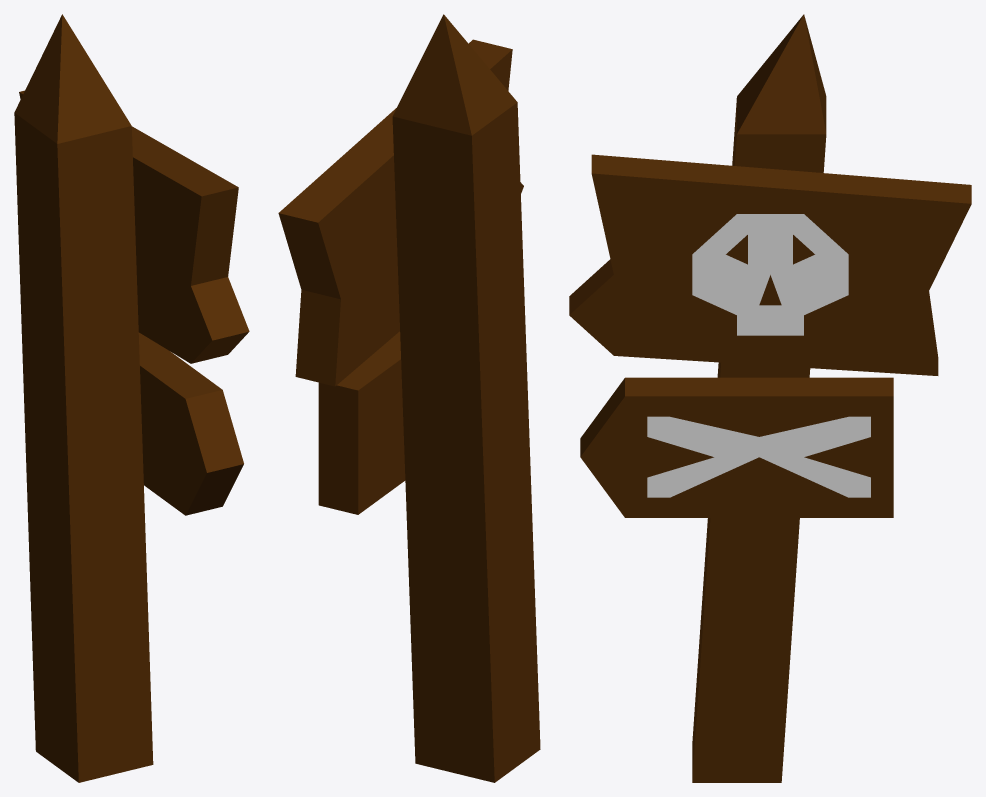
The model's file is dangersign.obj.
3 renders of one model, left to right at view 1: azimuth 30°, elevation 25°; view 2: azimuth 150°, elevation 25°; view 3: azimuth 270°, elevation 25°, orthographic. The views are drawn at different scales.
Visible parts, largest first — view 1: dangersign_back; view 2: dangersign_back; view 3: dangersign_back.
Boxes of the visible parts, bbox=[...] form: dangersign_back: bbox=[14, 14, 249, 782]; dangersign_back: bbox=[278, 14, 540, 782]; dangersign_back: bbox=[569, 14, 971, 782].
Size of the model in its own units: 0.24 by 1.48 by 0.72.
